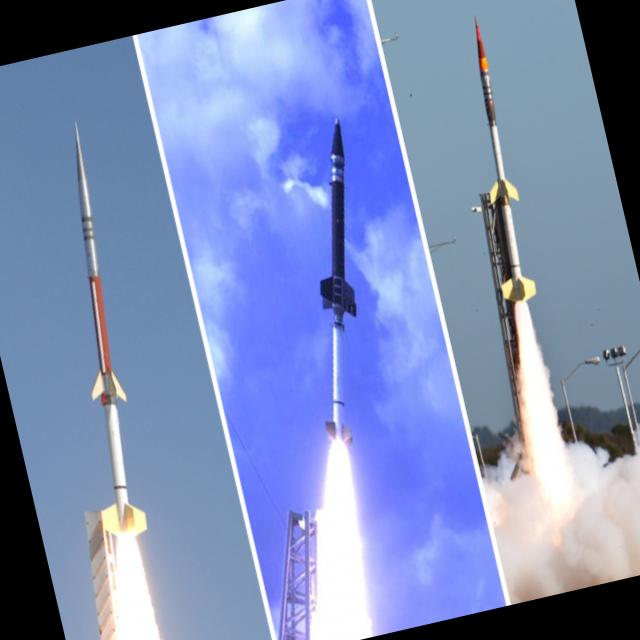rocket: (9, 113, 191, 620), (245, 111, 432, 524), (437, 13, 567, 385)
